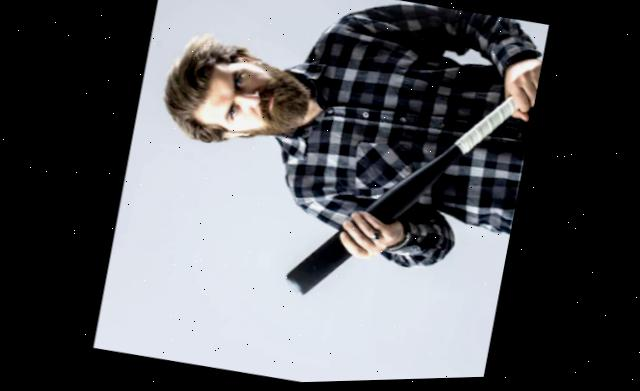baseball bat: (276, 17, 545, 339)
